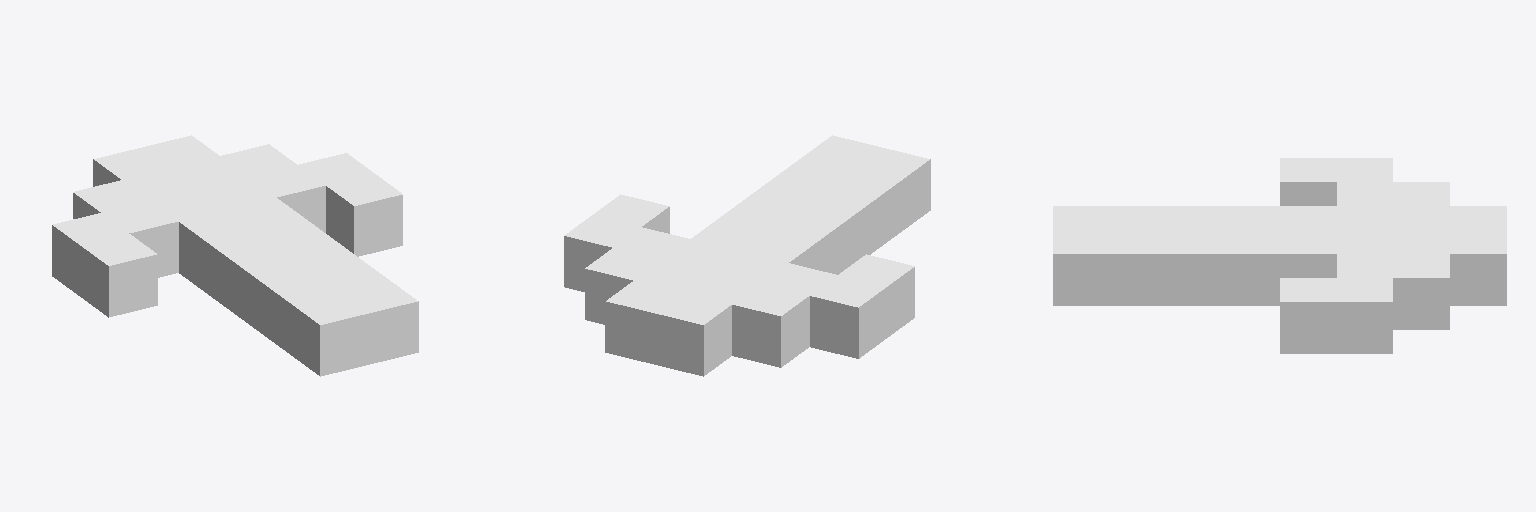
File: JiantouModel.obj
3 views of the same model, side by side, from view 1: azimuth 30°, elevation 25°; view 2: azimuth 150°, elevation 25°; view 3: azimuth 270°, elevation 25° (orthographic).
Size of the model in its own units: 6 by 1 by 8.